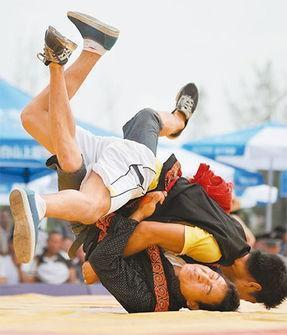Fall-Detected: (0, 35, 200, 262)
